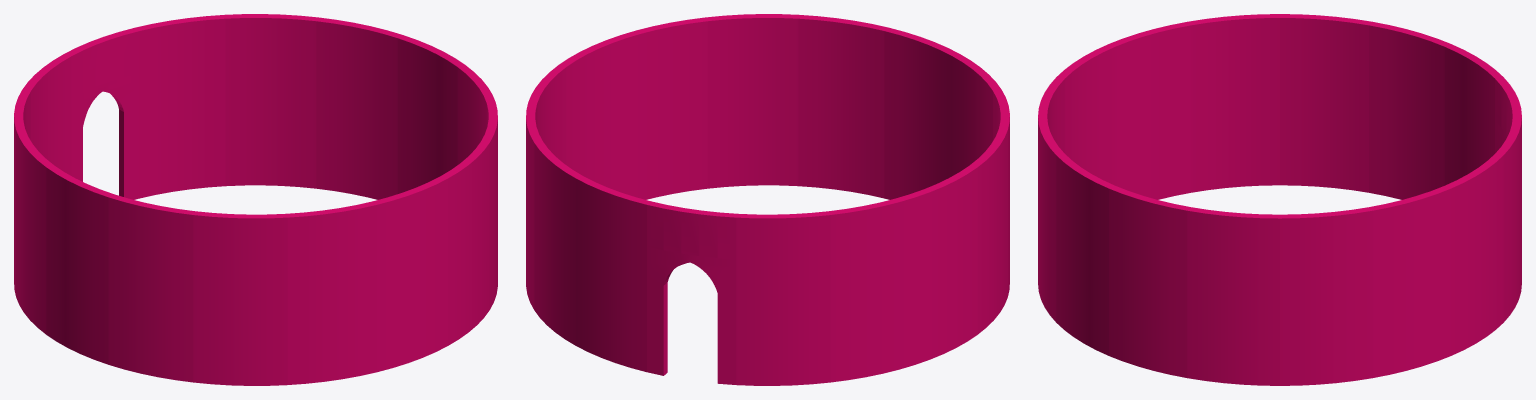
The model's file is Tower_Wall_06_Gate.fbx.
The picture shows the model from 3 angles, left to right: view 1: azimuth 30°, elevation 25°; view 2: azimuth 150°, elevation 25°; view 3: azimuth 270°, elevation 25°; orthographic projection.
Parts seen in each view (by area): view 1: Tower_Wall_06_Gate; view 2: Tower_Wall_06_Gate; view 3: Tower_Wall_06_Gate.
Part boxes in pixels (x1,y1,x2,y2): Tower_Wall_06_Gate: (14,14,497,385); Tower_Wall_06_Gate: (526,14,1009,385); Tower_Wall_06_Gate: (1038,14,1521,385).
Size of the model in its own units: 1571 by 600 by 1571.
